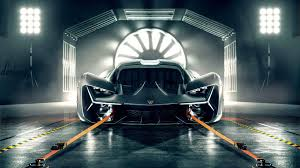car: (77, 61, 225, 135)
